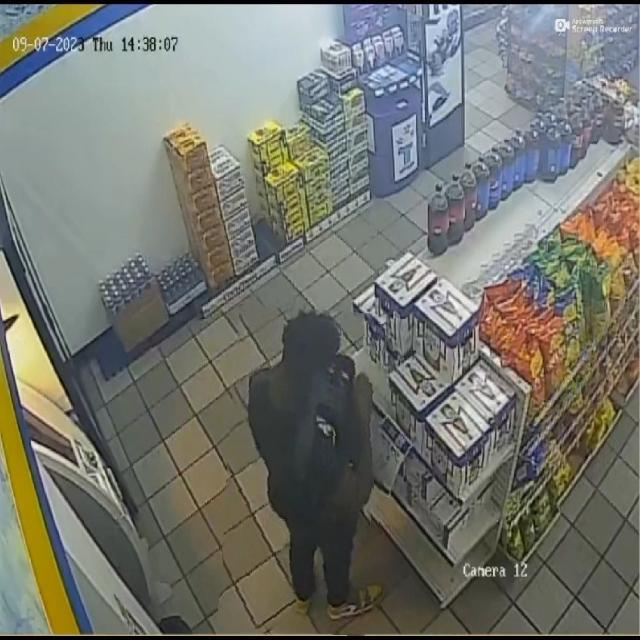Shoplifting: (223, 307, 381, 634)
